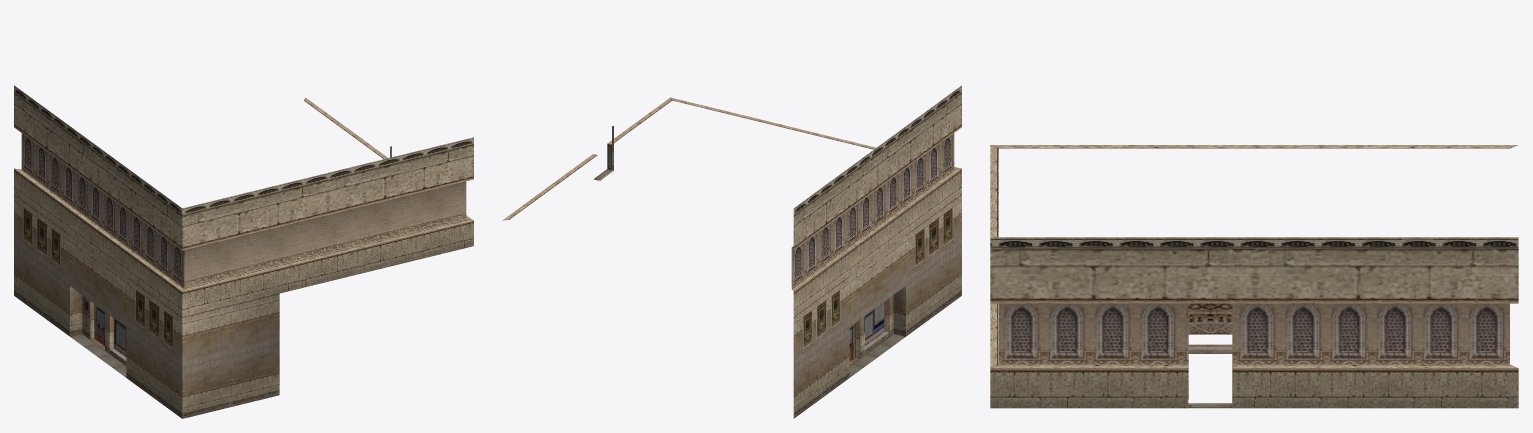
Rendered from M11Z1_Buildings04.glb.
The picture shows the model from 3 angles, left to right: view 1: azimuth 30°, elevation 25°; view 2: azimuth 150°, elevation 25°; view 3: azimuth 270°, elevation 25°; orthographic projection. The views are drawn at different scales.
Parts seen in each view (by area): view 1: M11Z1_BUILDINGS04; view 2: M11Z1_BUILDINGS04; view 3: M11Z1_BUILDINGS04.
Boxes of the visible parts, x1,y1,x2,y2 form: M11Z1_BUILDINGS04: (14,85,473,418); M11Z1_BUILDINGS04: (502,85,961,418); M11Z1_BUILDINGS04: (990,145,1518,408).
Size of the model in its own units: 24 by 16.56 by 24.
10 materials, 10 textured.
